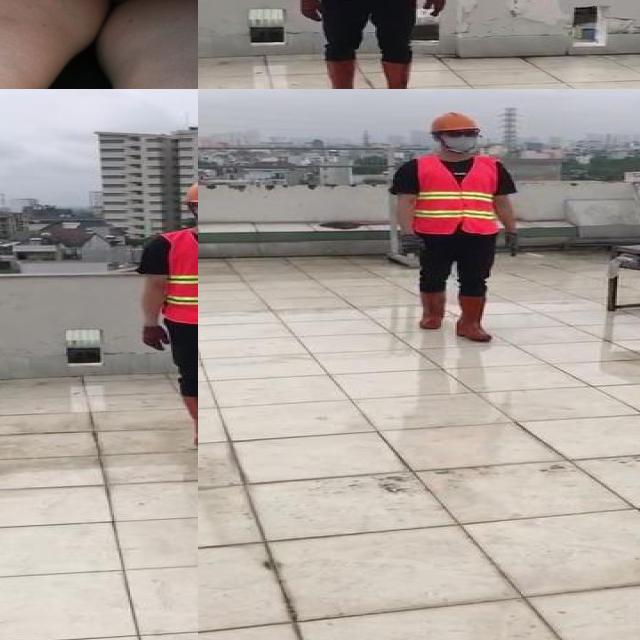boots: (455, 296, 498, 342), (321, 57, 359, 89), (378, 62, 421, 89), (420, 291, 446, 329), (186, 396, 198, 451)
face_mask: (442, 128, 483, 152)
glasses: (444, 128, 478, 140)
hand_glove: (142, 323, 171, 351), (494, 230, 523, 258), (398, 238, 424, 258)
head_helmet: (284, 0, 459, 89), (426, 110, 483, 134), (181, 178, 198, 204)
person: (386, 109, 533, 347), (132, 176, 198, 456)
vest: (410, 154, 500, 236), (158, 228, 198, 324)
